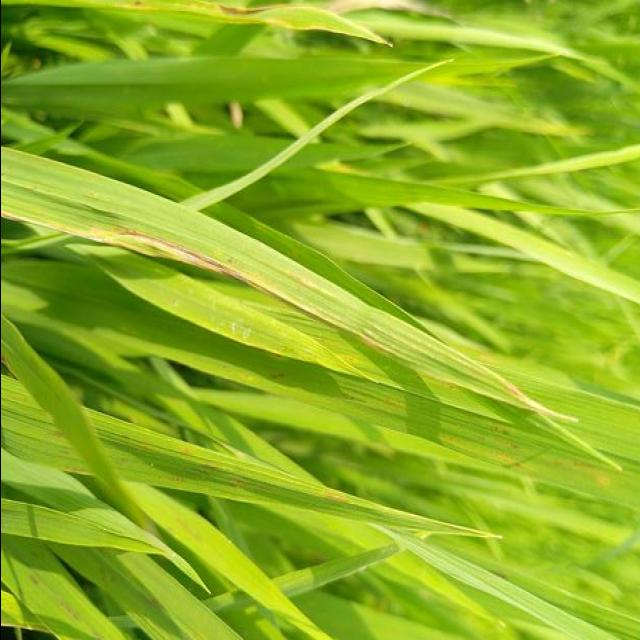Leaf Blight: (0, 181, 529, 404)
